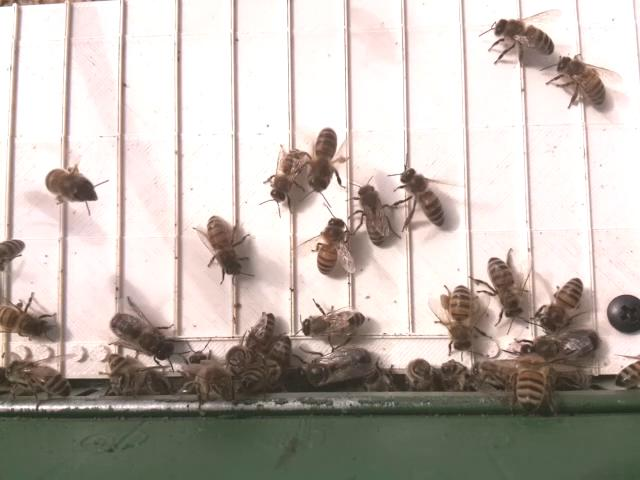Drone: (290, 344, 375, 391), (107, 308, 177, 362), (517, 327, 605, 367)
Worker: (554, 55, 609, 110), (204, 211, 246, 283), (400, 166, 447, 230), (489, 15, 556, 59), (538, 274, 586, 335), (305, 126, 341, 197), (301, 307, 372, 341), (486, 254, 522, 321), (315, 213, 350, 279), (354, 183, 389, 246), (445, 283, 476, 353), (270, 146, 306, 206), (0, 305, 50, 341)
